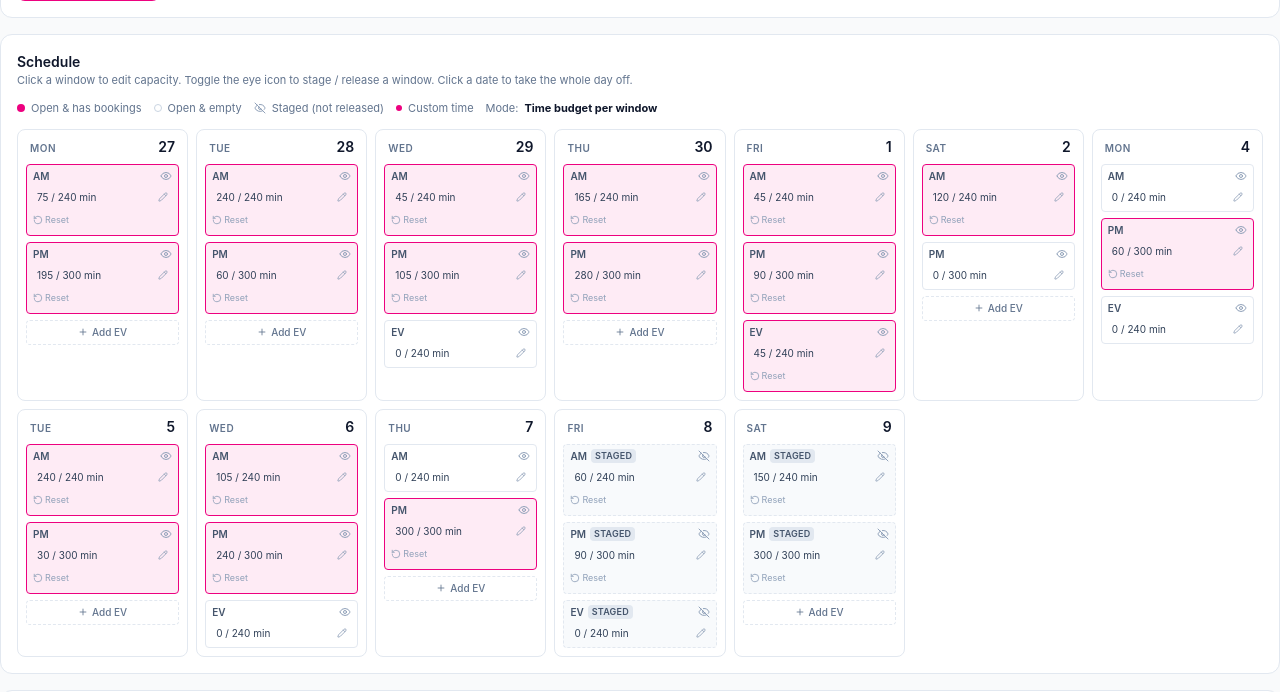
Test: RolloutScheduleEditor — Evening windows › undoing the add removes the evening slot again
(page scrolled)
Click the button with test id "rollout-add-evening-2026-04-27". click: {"x": 103, "y": 332}
box: [26,320,179,345]
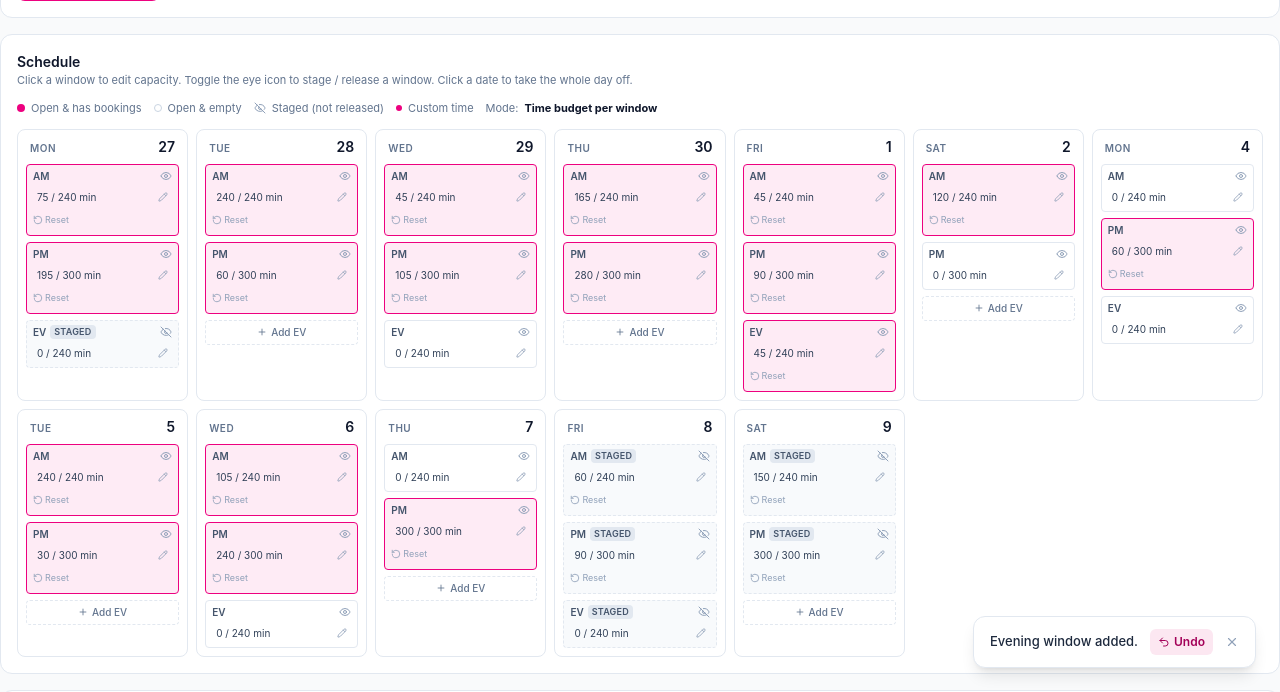
Click the button "Undo". click: {"x": 1182, "y": 642}
box: [1150,629,1213,655]
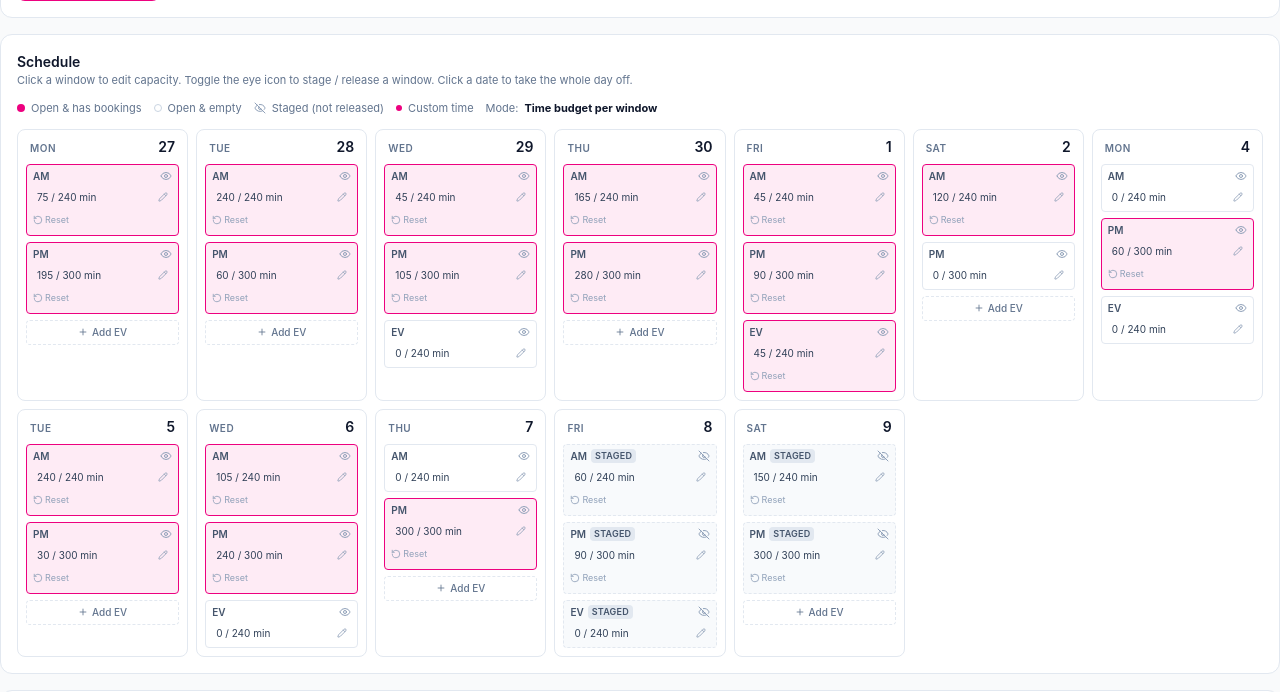
Expected: the button with test id "rollout-add-evening-2026-04-27" is shown, [26,320,179,345]
